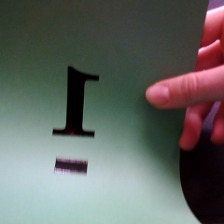green1: (45, 58, 108, 179)
